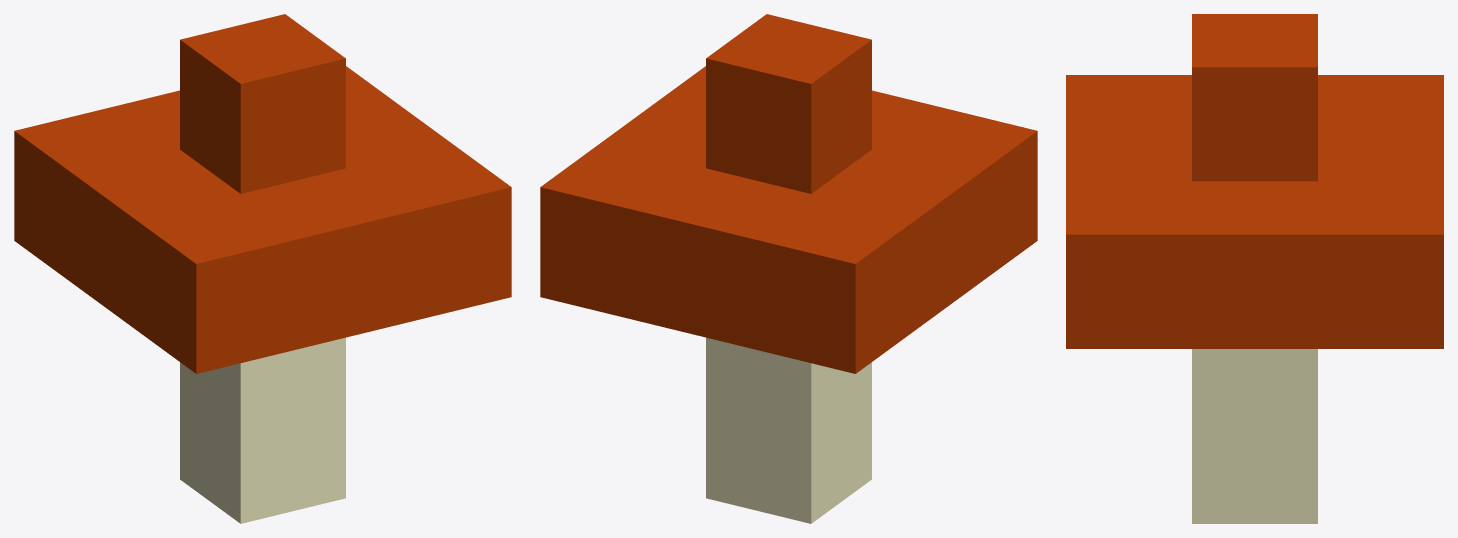
Rendered from mushroom.glb.
The picture shows the model from 3 angles, left to right: view 1: azimuth 30°, elevation 25°; view 2: azimuth 150°, elevation 25°; view 3: azimuth 270°, elevation 25°; orthographic projection. The views are drawn at different scales.
Parts seen in each view (by area): view 1: pl0; view 2: pl0; view 3: pl0.
Boxes of the visible parts, x1,y1,x2,y2 form: pl0: (14, 14, 511, 523); pl0: (540, 14, 1037, 523); pl0: (1066, 14, 1443, 523).
Bounding box in the file's own units: 3 × 4 × 3.
1 material, 1 textured.
